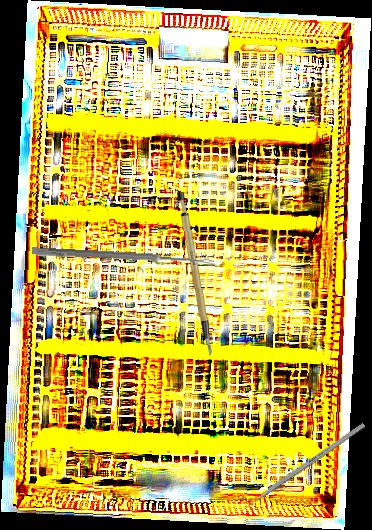Pusher: (235, 422, 366, 516)
Scalpel Handle: (175, 191, 213, 357)
Surgical Spoon: (31, 247, 215, 266)
